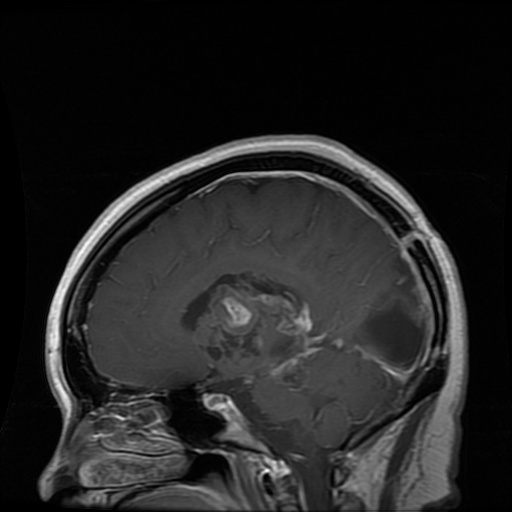glioma: (355, 252, 428, 383)
